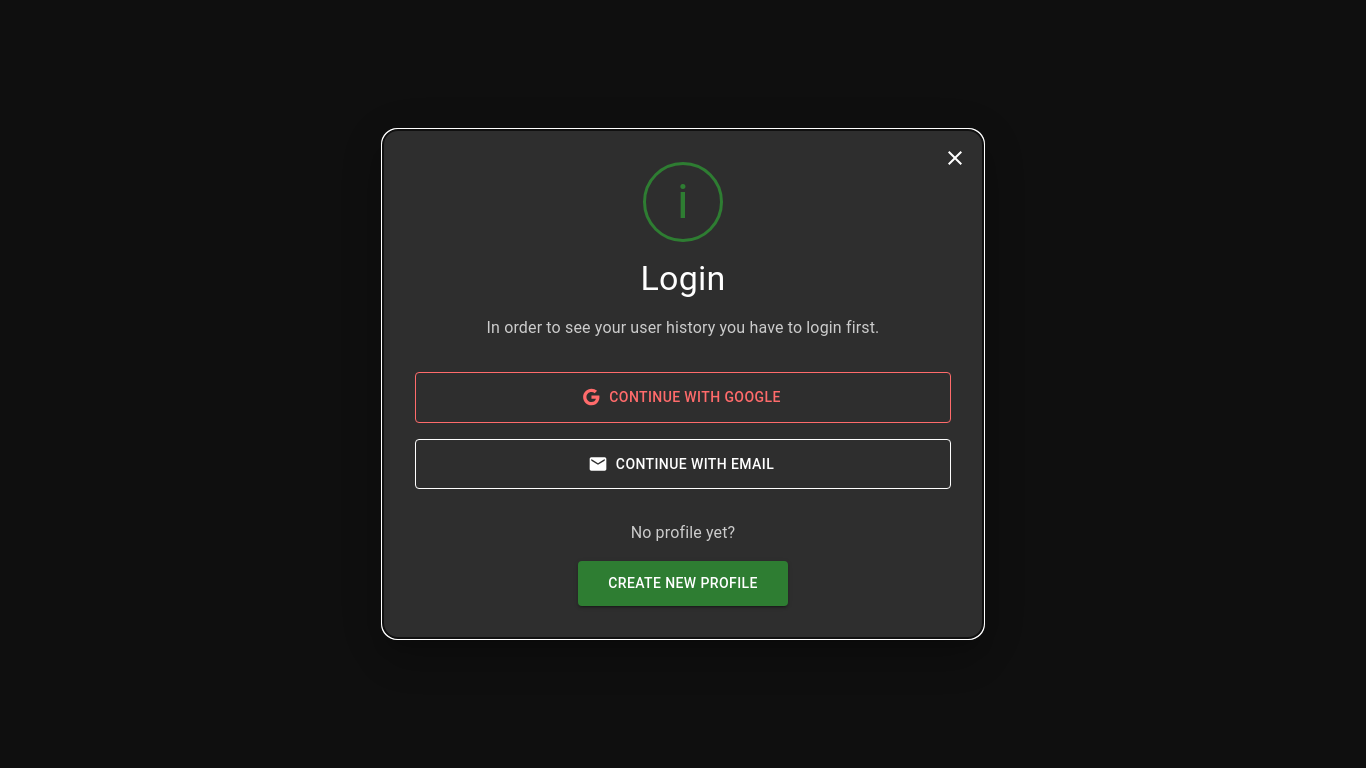
it: LoginModal › reveals the email form when Continue with Email is clicked
This screenshot has width=1366, height=768.
Click the button "CONTINUE WITH EMAIL" at {"x": 683, "y": 464}, box [415, 439, 951, 489]
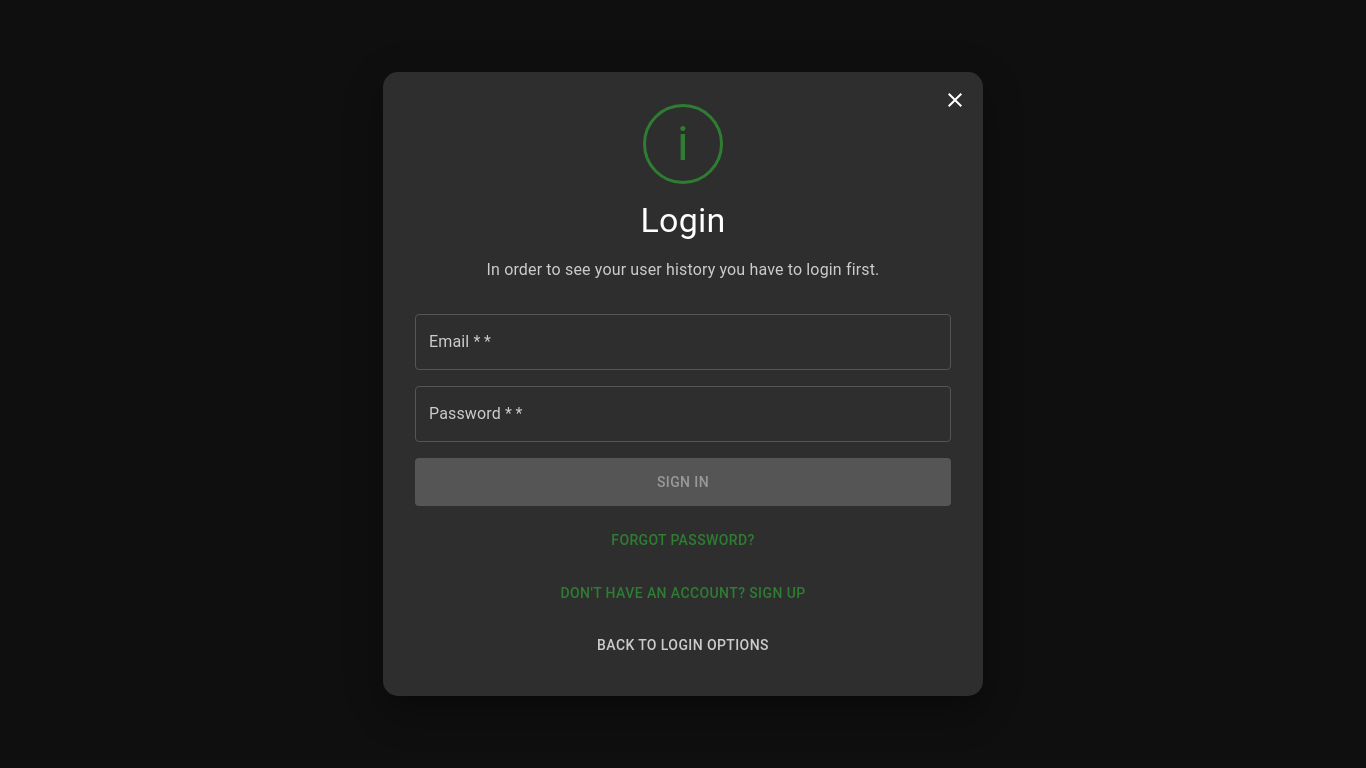
Result: the field labelled "Email * *" is shown at [415, 314, 951, 370]
Result: the password field labelled "Password * *" is shown at [415, 386, 951, 442]
